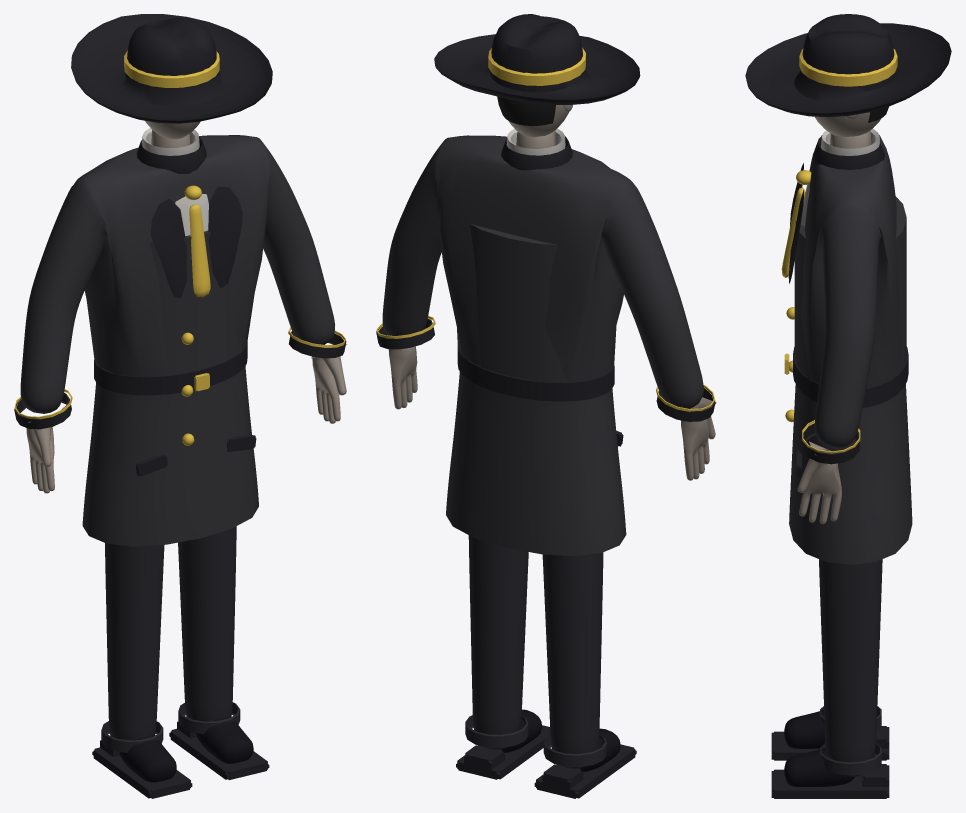
File: human_noir_v3.glb
3 renders of one model, left to right at view 1: azimuth 30°, elevation 25°; view 2: azimuth 150°, elevation 25°; view 3: azimuth 270°, elevation 25°, orthographic. The views are drawn at different scales.
Visible parts, largest first — view 1: human_noir; view 2: human_noir; view 3: human_noir.
Part boxes in pixels (x1,y1,x2,y2): human_noir: (14,14,346,798); human_noir: (376,14,716,798); human_noir: (745,14,951,798).
Bounding box in the file's own units: 0.8277 × 1.78 × 0.4466.
